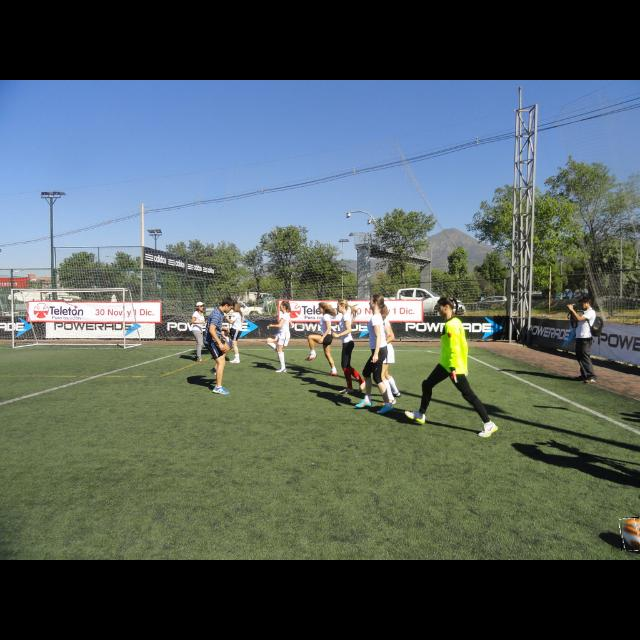Football: (621, 517, 639, 551)
